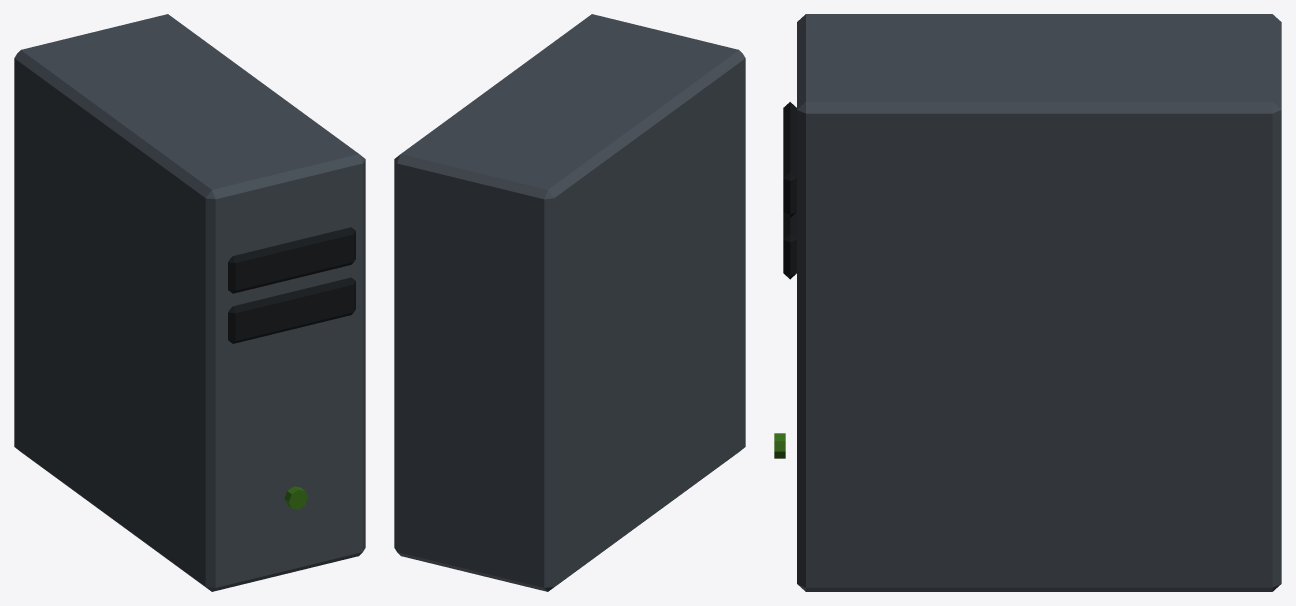
File: ComputerTower.fbx
3 views of the same model, side by side, from view 1: azimuth 30°, elevation 25°; view 2: azimuth 150°, elevation 25°; view 3: azimuth 270°, elevation 25° (orthographic). The views are drawn at different scales.
Parts seen in each view (by area): view 1: ComputerTower; view 2: ComputerTower; view 3: ComputerTower.
Part boxes in pixels (bbox=[...]): ComputerTower: bbox=[14, 14, 365, 591]; ComputerTower: bbox=[394, 14, 745, 591]; ComputerTower: bbox=[774, 14, 1281, 591].
Bounding box in the file's own units: 20 × 48 × 45.
Materials: 1 (1 with a texture image).
